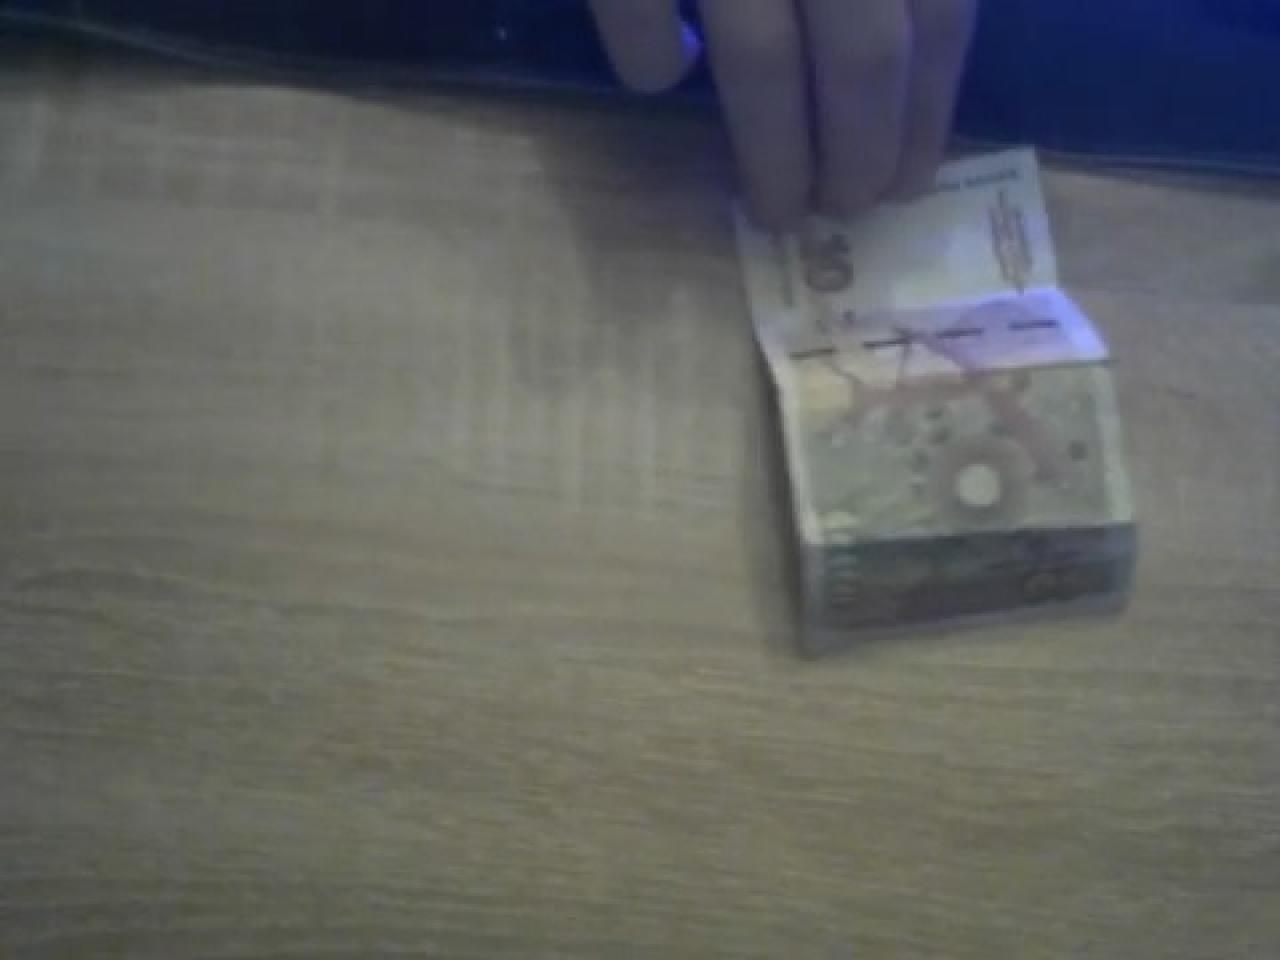10leva: (742, 157, 1141, 662)
